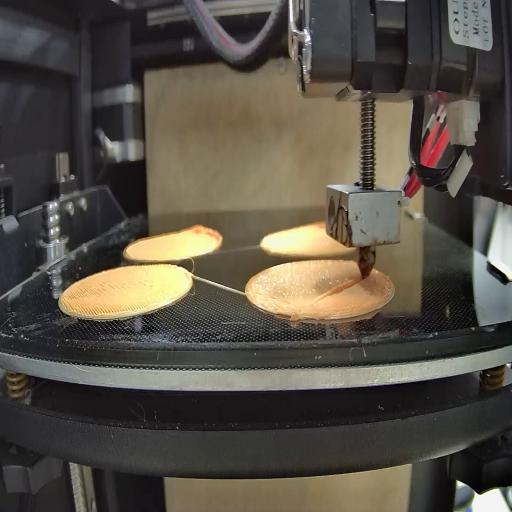over_extrusion: (309, 274, 364, 308), (181, 220, 223, 247)
